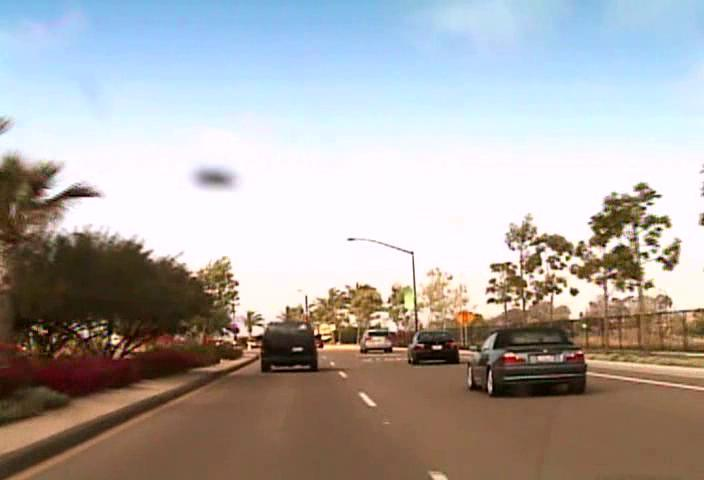signalAhead: (453, 308, 475, 329)
